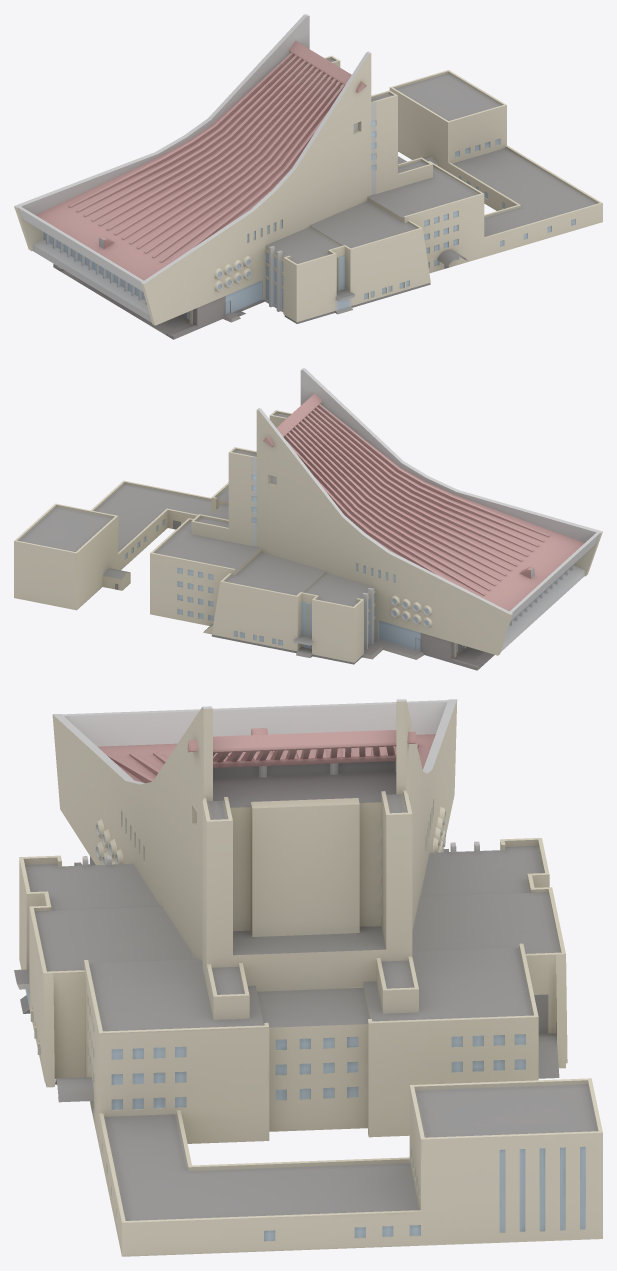
Rendered from muzteatr.glb.
3 views of the same model, one above another, from view 1: azimuth 30°, elevation 25°; view 2: azimuth 150°, elevation 25°; view 3: azimuth 270°, elevation 25° (orthographic). The views are drawn at different scales.
Visible parts, largest first — view 1: muzteatr.001; view 2: muzteatr.001; view 3: muzteatr.001.
Boxes of the visible parts, x1,y1,x2,y2 form: muzteatr.001: (14,14,602,339); muzteatr.001: (14,368,602,670); muzteatr.001: (14,699,602,1256).
Size of the model in its own units: 126 by 49.53 by 72.47.
1 material, 1 textured.
